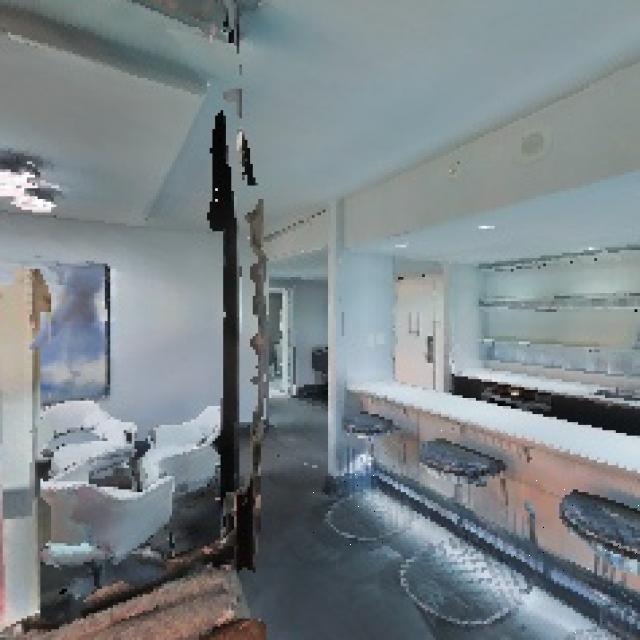chair: (385, 429, 527, 634), (527, 478, 640, 640), (310, 402, 406, 557)
